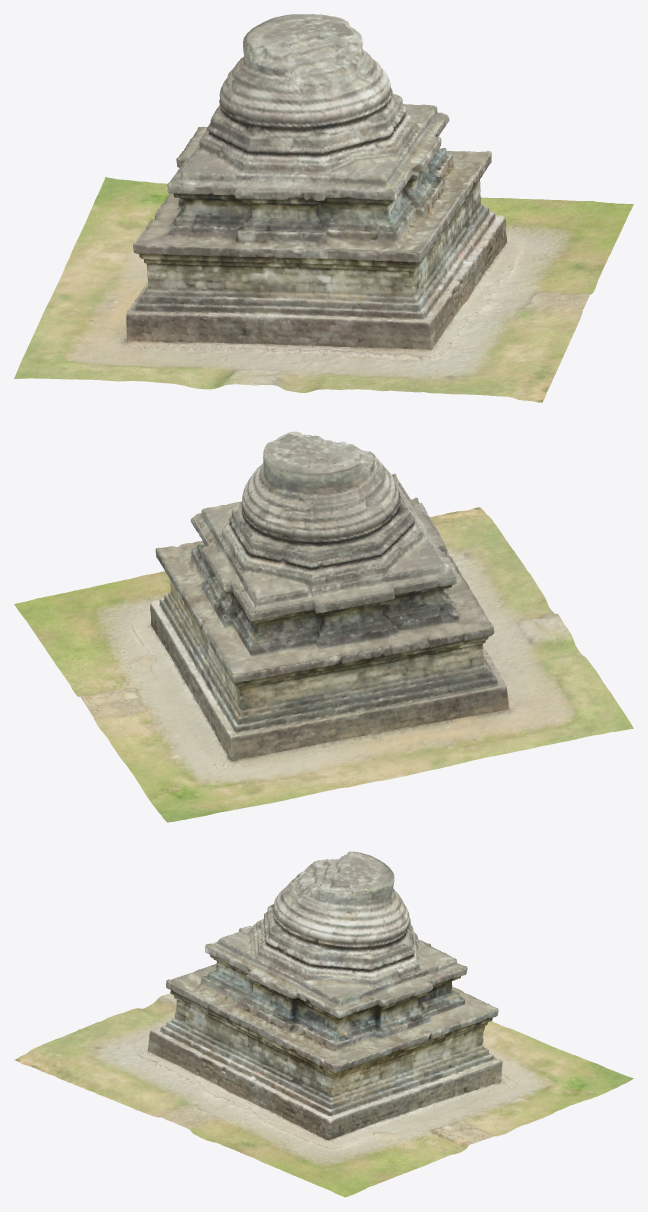
Rendered from candi_sumberawan_v3_fixed.glb.
3 renders of one model, top to bottom at view 1: azimuth 30°, elevation 25°; view 2: azimuth 150°, elevation 25°; view 3: azimuth 270°, elevation 25°, orthographic. The views are drawn at different scales.
Visible parts, largest first — view 1: GeometryNode_167_0, GeometryNode_97_0, GeometryNode_77_0, GeometryNode_157_0, GeometryNode_117_0, GeometryNode_107_0, GeometryNode_147_0, GeometryNode_127_0, GeometryNode_87_0, GeometryNode_137_0, GeometryNode_167_1, GeometryNode_117_1 (+8 smaller); view 2: GeometryNode_87_0, GeometryNode_77_0, GeometryNode_167_0, GeometryNode_147_0, GeometryNode_97_0, GeometryNode_107_0, GeometryNode_157_0, GeometryNode_127_0, GeometryNode_117_0, GeometryNode_137_0, GeometryNode_87_1, GeometryNode_77_1 (+8 smaller); view 3: GeometryNode_167_0, GeometryNode_127_0, GeometryNode_157_0, GeometryNode_107_0, GeometryNode_117_0, GeometryNode_147_0, GeometryNode_97_0, GeometryNode_87_0, GeometryNode_137_0, GeometryNode_77_0, GeometryNode_167_1, GeometryNode_117_1 (+8 smaller).
Boxes of the visible parts, x1,y1,x2,y2 form: GeometryNode_167_0: (199, 14, 445, 203); GeometryNode_97_0: (126, 194, 506, 392); GeometryNode_77_0: (14, 177, 213, 389); GeometryNode_157_0: (167, 104, 490, 260); GeometryNode_117_0: (137, 199, 593, 402); GeometryNode_107_0: (128, 197, 584, 394); GeometryNode_147_0: (133, 151, 489, 304); GeometryNode_127_0: (147, 192, 633, 402); GeometryNode_87_0: (90, 179, 506, 388); GeometryNode_137_0: (141, 152, 505, 336); GeometryNode_167_1: (203, 15, 443, 200); GeometryNode_117_1: (143, 198, 589, 400); GeometryNode_87_0: (114, 611, 607, 820); GeometryNode_77_0: (140, 645, 633, 822); GeometryNode_167_0: (191, 431, 434, 593); GeometryNode_147_0: (156, 497, 492, 688); GeometryNode_97_0: (90, 550, 574, 771); GeometryNode_107_0: (29, 528, 539, 740); GeometryNode_157_0: (157, 482, 456, 627); GeometryNode_127_0: (14, 508, 490, 715); GeometryNode_117_0: (26, 507, 522, 729); GeometryNode_137_0: (150, 548, 485, 705); GeometryNode_87_1: (116, 617, 608, 819); GeometryNode_77_1: (142, 648, 626, 822); GeometryNode_167_0: (205, 851, 449, 1020); GeometryNode_127_0: (16, 1010, 484, 1197); GeometryNode_157_0: (166, 912, 467, 1067); GeometryNode_107_0: (47, 1010, 502, 1185); GeometryNode_117_0: (14, 972, 493, 1187); GeometryNode_147_0: (166, 947, 498, 1107); GeometryNode_97_0: (126, 992, 563, 1138); GeometryNode_87_0: (148, 984, 628, 1146); GeometryNode_137_0: (149, 1018, 490, 1129); GeometryNode_77_0: (482, 1021, 633, 1101); GeometryNode_167_1: (206, 852, 442, 1017); GeometryNode_117_1: (18, 1022, 489, 1185).
Bounding box in the file's own units: 2.98 × 1.21 × 3.1.
Materials: 1 (1 with a texture image).
